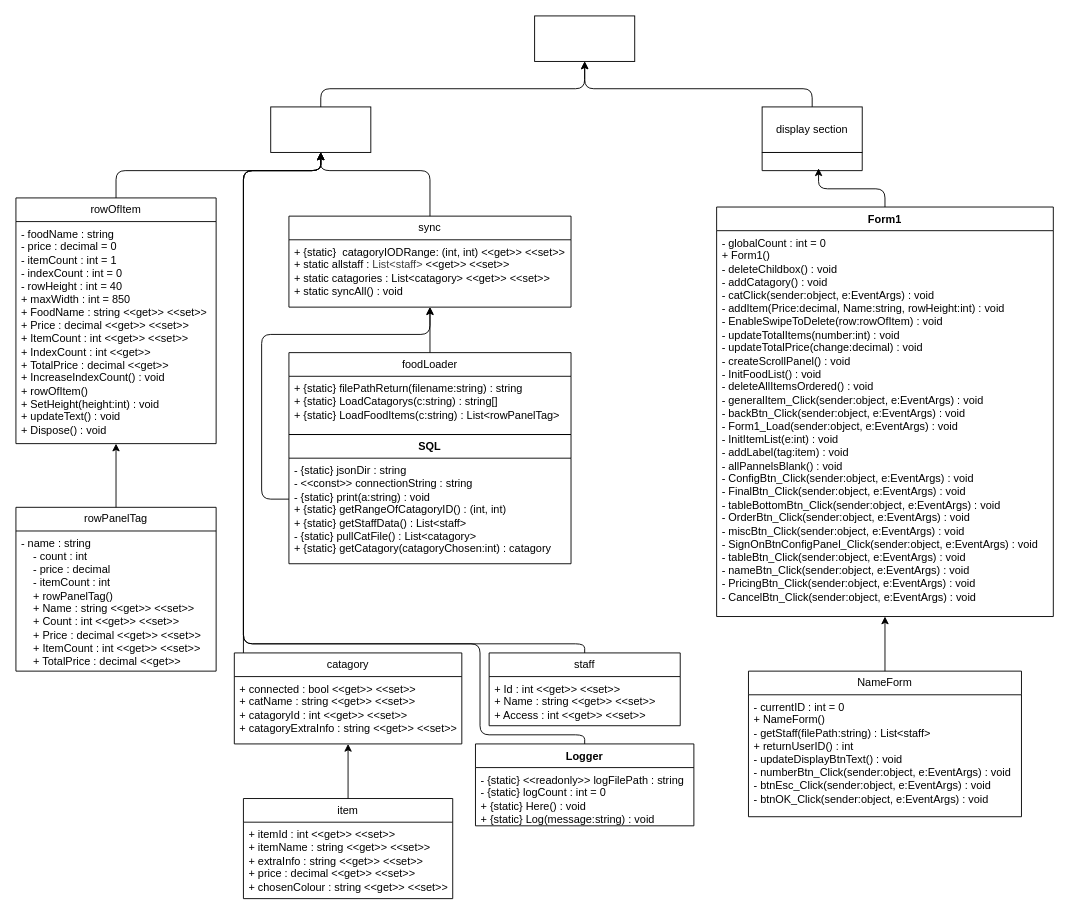
The diagram is 1069 pixels wide and 917 high, and some of its shapes have lost their labels. The shapes that lost their labels are listed below. From the top down, each one's centre as x and y in pixels, then its label:
At pixel 584 38: "start of program".
At pixel 320 129: "static classes".
At pixel 811 161: "Form (built-in)".
